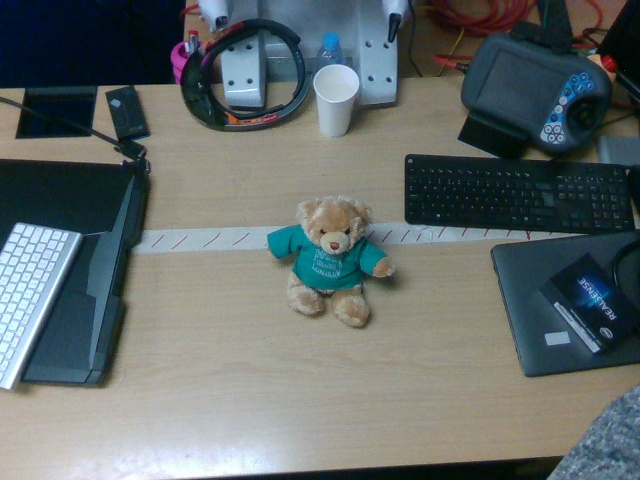teddy: (267, 197, 395, 328)
